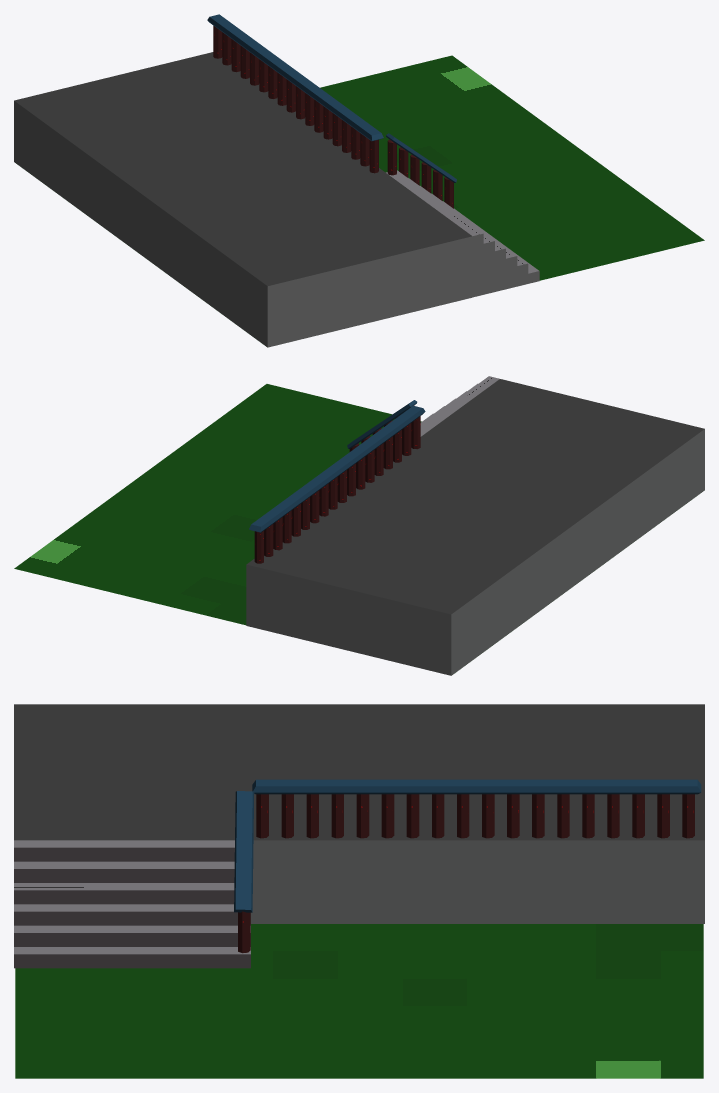
File: LevelNew.fbx
The picture shows the model from 3 angles, top to bottom: view 1: azimuth 30°, elevation 25°; view 2: azimuth 150°, elevation 25°; view 3: azimuth 270°, elevation 25°; orthographic projection. The views are drawn at different scales.
Parts seen in each view (by area): view 1: Block upper, Plane, Block, Cylinder, Cube.002, Stairs, Cylinder.001, Stairs.001; view 2: Block upper, Plane, Block, Cylinder, Cube.002, Stairs.001; view 3: Plane, Block upper, Block, Stairs.002, Stairs.001, Cylinder, Cube.002, Cube.003.
Boxes of the visible parts, x1,y1,x2,y2 form: Block upper: (14,52,471,285); Plane: (17,55,704,320); Block: (14,101,472,347); Cylinder: (213,26,378,173); Cube.002: (207,14,383,141); Stairs: (472,233,539,297); Cylinder.001: (387,139,453,208); Stairs.001: (386,170,538,273); Block upper: (246,379,704,614); Plane: (14,384,696,669); Block: (246,429,704,675); Cylinder: (254,416,420,563); Cube.002: (249,405,425,532); Stairs.001: (420,376,499,436); Plane: (15,924,703,1078); Block upper: (14,704,704,840); Block: (251,840,704,923); Stairs.002: (14,847,250,968); Stairs.001: (14,840,250,954); Cylinder: (256,794,694,838); Cube.002: (252,779,701,794); Cube.003: (234,791,254,912).
Bounding box in the file's own units: 35.52 × 35.64 × 7.75.
Materials: 8 (7 with a texture image).
